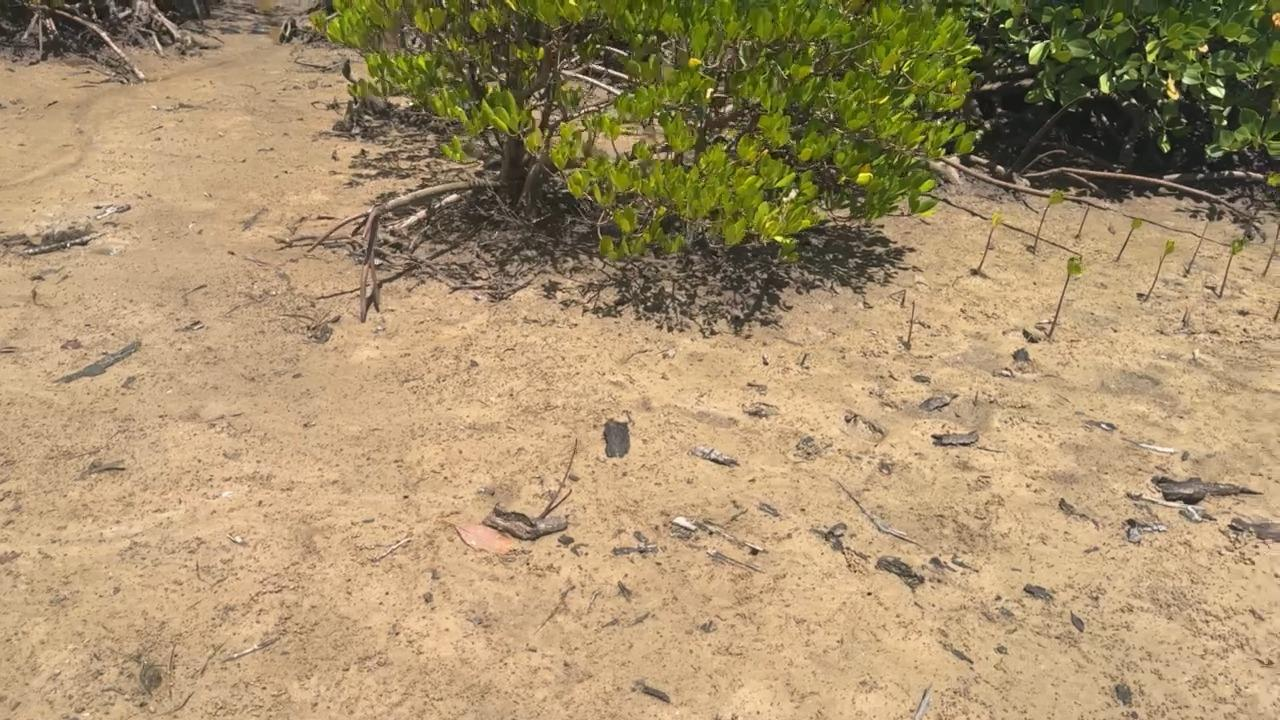Tree: (1049, 257, 1082, 335), (1034, 189, 1063, 255), (1144, 240, 1175, 300), (978, 212, 1004, 270), (1220, 239, 1243, 297), (1187, 220, 1208, 273), (1117, 219, 1141, 262), (1263, 224, 1280, 276), (1076, 208, 1090, 236), (908, 300, 914, 348), (1273, 301, 1280, 320)
